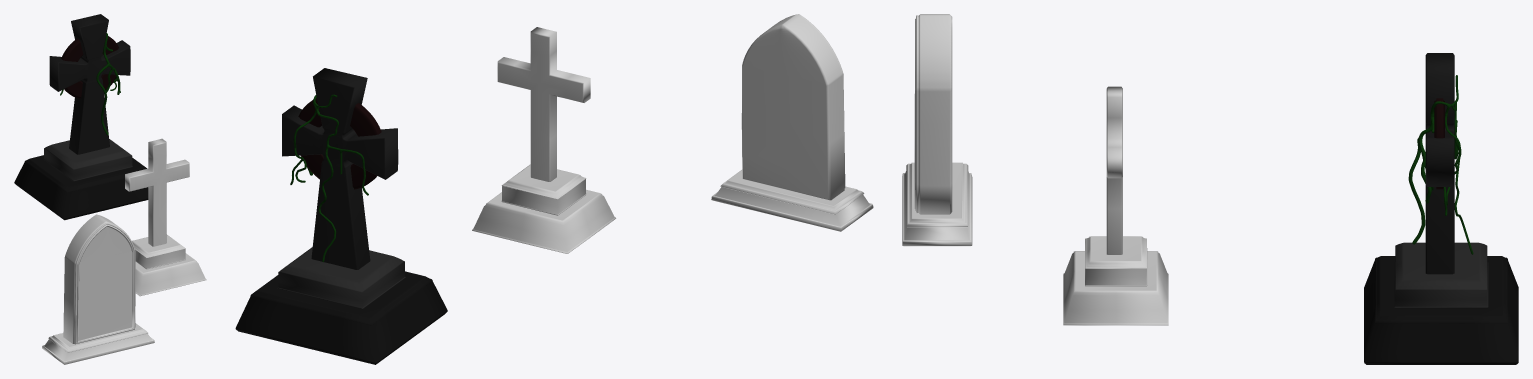
Rendered from crossWithVines.obj.
3 renders of one model, left to right at view 1: azimuth 30°, elevation 25°; view 2: azimuth 150°, elevation 25°; view 3: azimuth 270°, elevation 25°, orthographic. The views are drawn at different scales.
Visible parts, largest first — view 1: SVCelticCross.Shape, SVHeadStoneGrave.Shape, SVCrossGrave.Shape, Plane; view 2: SVCelticCross.Shape, SVHeadStoneGrave.Shape, SVCrossGrave.Shape, Plane; view 3: SVCelticCross.Shape, SVHeadStoneGrave.Shape, SVCrossGrave.Shape, Plane.
Part boxes in pixels (x1,y1,x2,y2): SVCelticCross.Shape: [14, 14, 148, 220]; SVHeadStoneGrave.Shape: [42, 214, 154, 364]; SVCrossGrave.Shape: [125, 138, 206, 296]; Plane: [60, 33, 120, 135]; SVCelticCross.Shape: [235, 68, 447, 364]; SVHeadStoneGrave.Shape: [711, 14, 873, 231]; SVCrossGrave.Shape: [472, 27, 615, 253]; Plane: [290, 94, 368, 262]; SVCelticCross.Shape: [1364, 53, 1518, 364]; SVHeadStoneGrave.Shape: [902, 14, 972, 246]; SVCrossGrave.Shape: [1063, 86, 1168, 325]; Plane: [1408, 75, 1473, 254].
Bounding box in the file's own units: 2.03 × 1.34 × 2.83.
